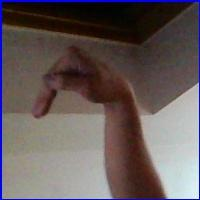del: (31, 41, 123, 129)
